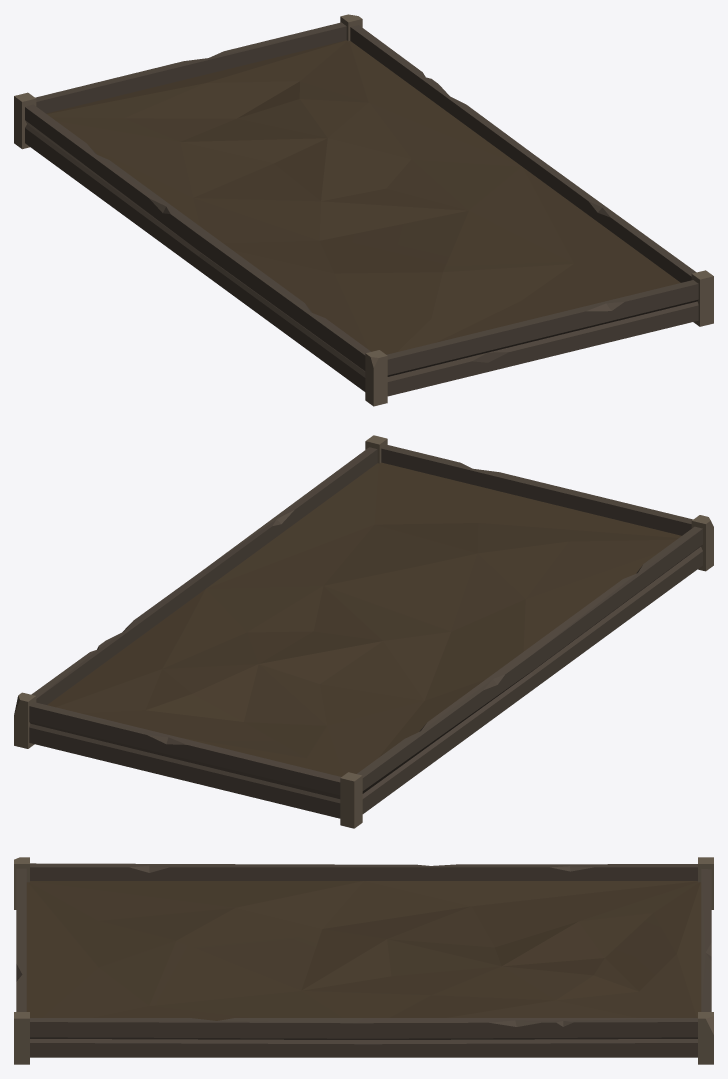
File: SM_Prop_PlantBox_Large_01.glb
3 views of the same model, one above another, from view 1: azimuth 30°, elevation 25°; view 2: azimuth 150°, elevation 25°; view 3: azimuth 270°, elevation 25° (orthographic). The views are drawn at different scales.
Visible parts, largest first — view 1: SM_Prop_PlantBox_Large_01; view 2: SM_Prop_PlantBox_Large_01; view 3: SM_Prop_PlantBox_Large_01.
Boxes of the visible parts, x1,y1,x2,y2 form: SM_Prop_PlantBox_Large_01: (14, 14, 713, 406); SM_Prop_PlantBox_Large_01: (14, 435, 713, 828); SM_Prop_PlantBox_Large_01: (14, 857, 713, 1064).
Size of the model in its own units: 4.2 by 0.5575 by 7.69.
Materials: 1 (1 with a texture image).
